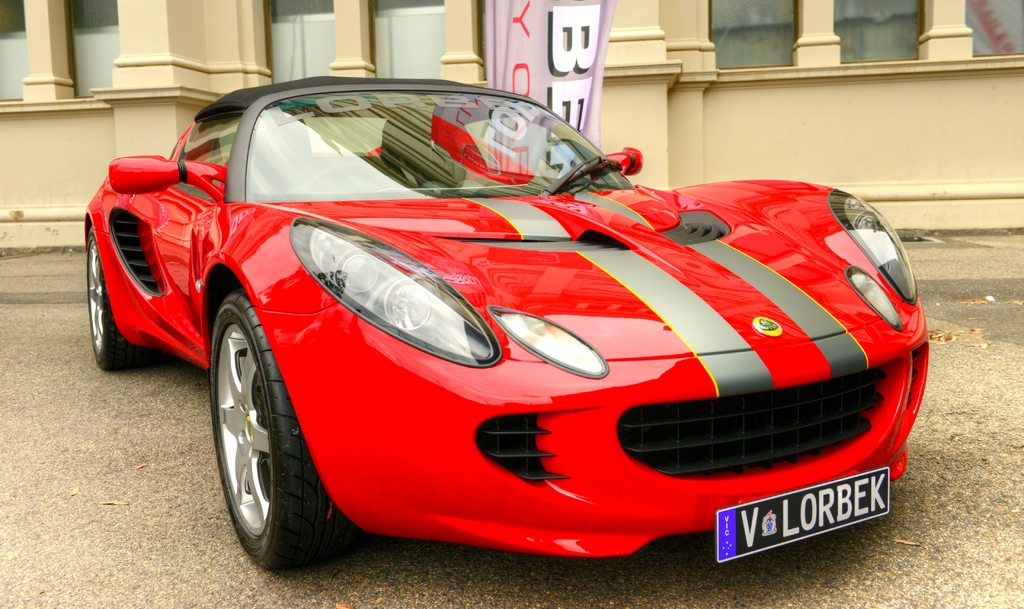Car: (87, 75, 927, 573)
